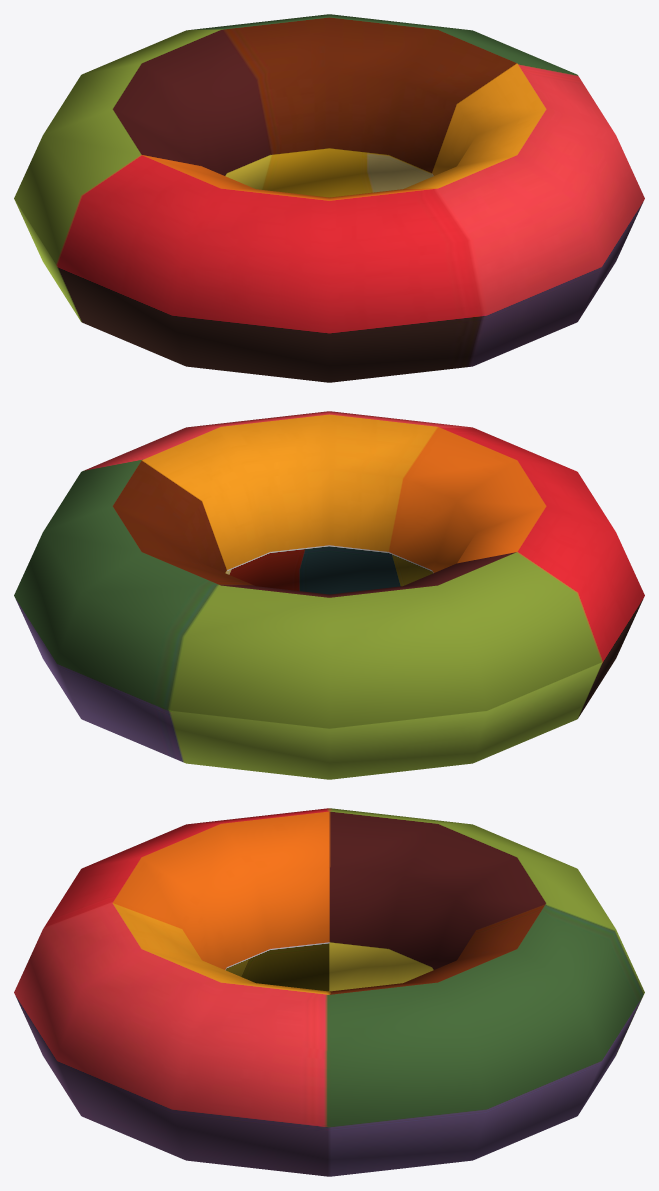
The model's file is Donut.fbx.
3 renders of one model, top to bottom at view 1: azimuth 30°, elevation 25°; view 2: azimuth 150°, elevation 25°; view 3: azimuth 270°, elevation 25°, orthographic.
Visible parts, largest first — view 1: Torus; view 2: Torus; view 3: Torus.
Part boxes in pixels (x1,y1,x2,y2): Torus: [14, 14, 644, 382]; Torus: [14, 411, 644, 779]; Torus: [14, 808, 644, 1176].
Size of the model in its own units: 160 by 50 by 160.
